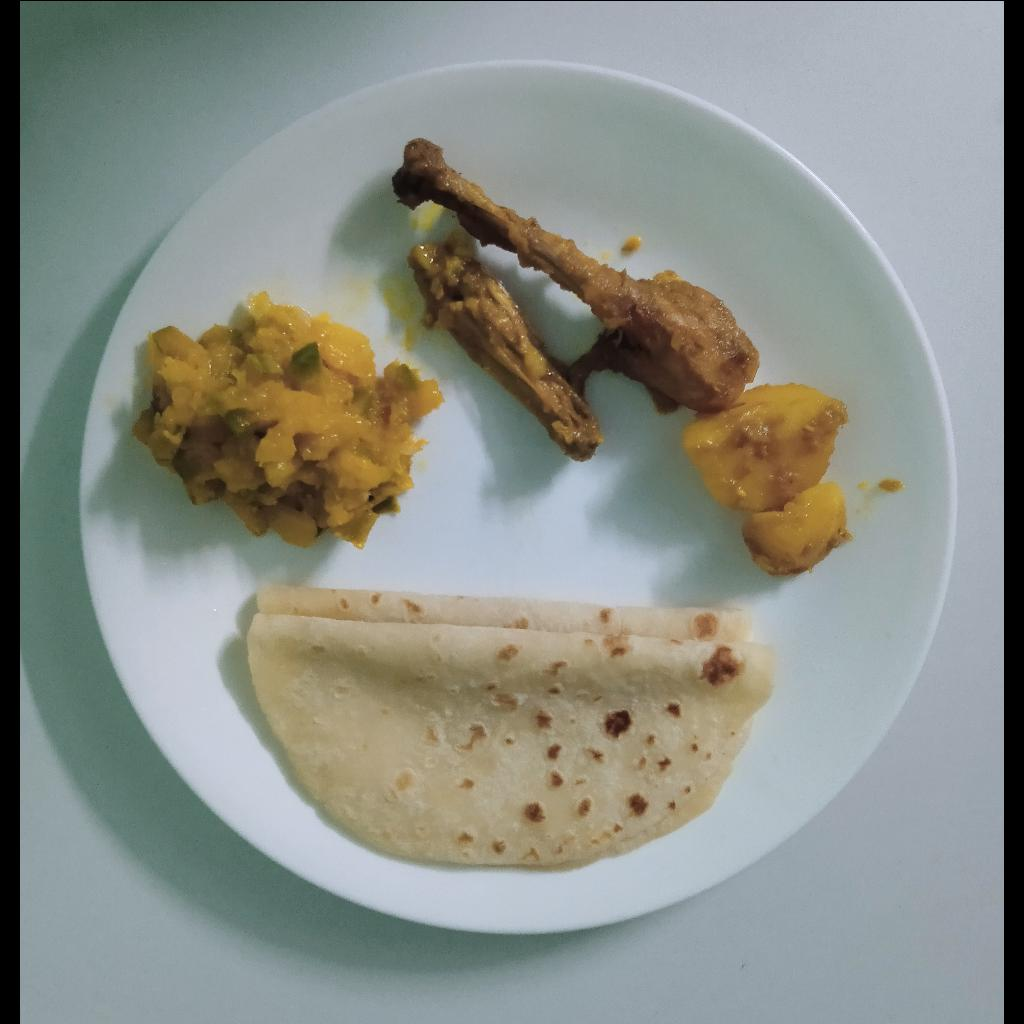chicken: (404, 134, 746, 455)
kumra-vaji: (151, 304, 439, 540)
potato: (687, 385, 843, 576)
ruti: (250, 582, 773, 872)
